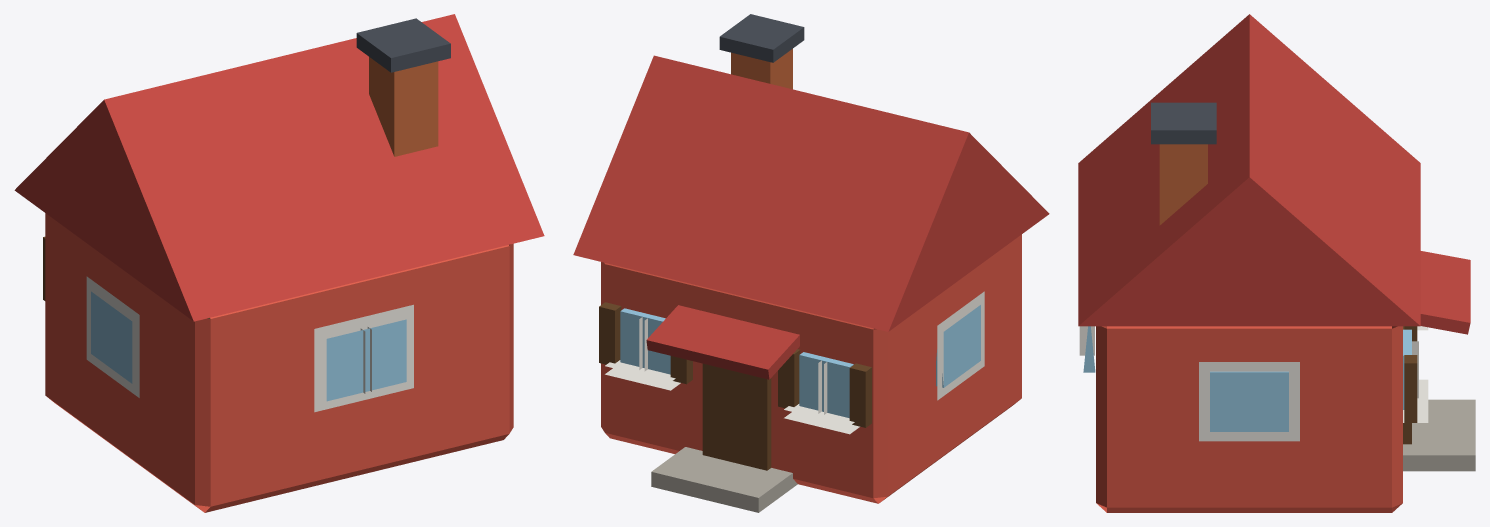
Rendered from house_cottage.glb.
3 renders of one model, left to right at view 1: azimuth 30°, elevation 25°; view 2: azimuth 150°, elevation 25°; view 3: azimuth 270°, elevation 25°, orthographic. The views are drawn at different scales.
Parts seen in each view (by area): view 1: house_cottage; view 2: house_cottage; view 3: house_cottage.
Boxes of the visible parts, x1,y1,x2,y2 form: house_cottage: [14, 14, 544, 512]; house_cottage: [573, 14, 1049, 512]; house_cottage: [1078, 14, 1475, 512].
Size of the model in its own units: 1.76 by 1.86 by 1.81.
Materials: 1 (1 with a texture image).
